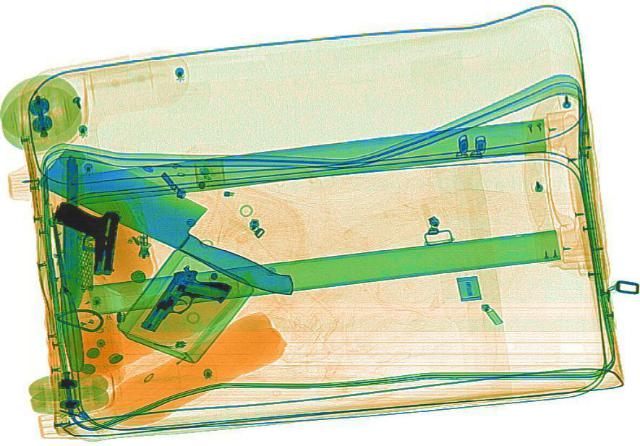Gun: (134, 262, 238, 341), (46, 200, 120, 274)
Knife: (22, 143, 330, 299), (42, 209, 86, 368), (57, 156, 83, 302)
